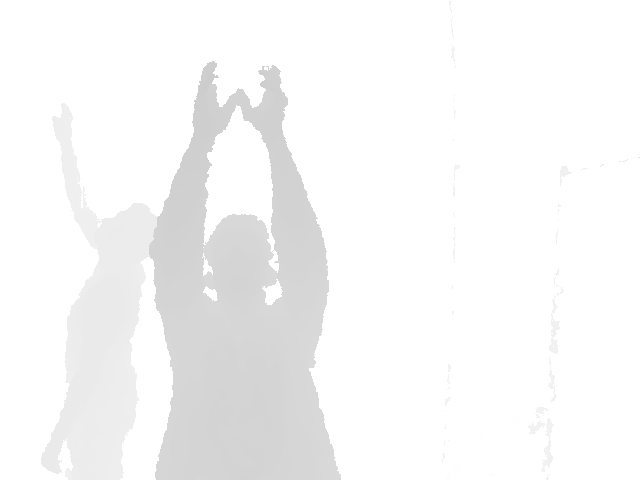hand: (236, 64, 289, 141), (191, 61, 237, 141), (51, 102, 74, 144)
head: (203, 212, 281, 311), (94, 202, 164, 265)
person: (147, 61, 343, 480), (38, 102, 161, 480)
